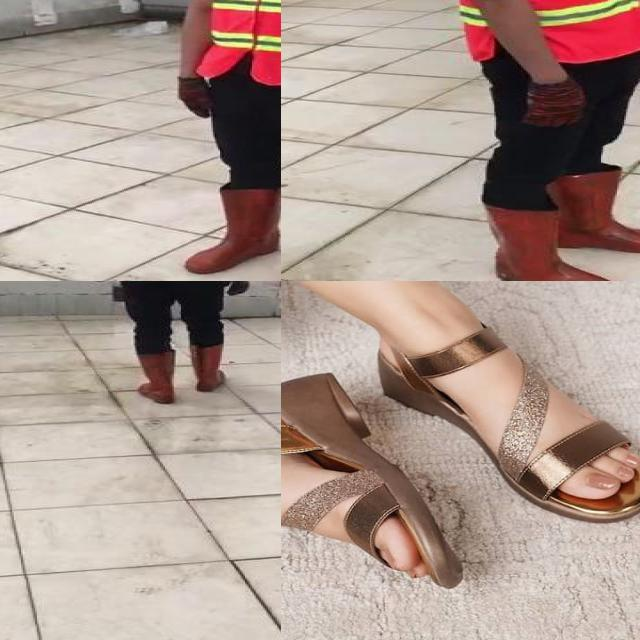Sandals: (378, 311, 640, 524), (281, 372, 465, 595)
boots: (484, 202, 626, 281), (538, 170, 640, 257), (186, 188, 281, 273), (132, 351, 178, 404), (188, 345, 227, 393)
hand_glove: (520, 81, 582, 126), (176, 76, 214, 119), (225, 281, 248, 298)
person: (409, 0, 640, 281), (169, 0, 281, 281), (83, 281, 255, 412)
vest: (424, 0, 640, 61), (196, 0, 281, 86)
